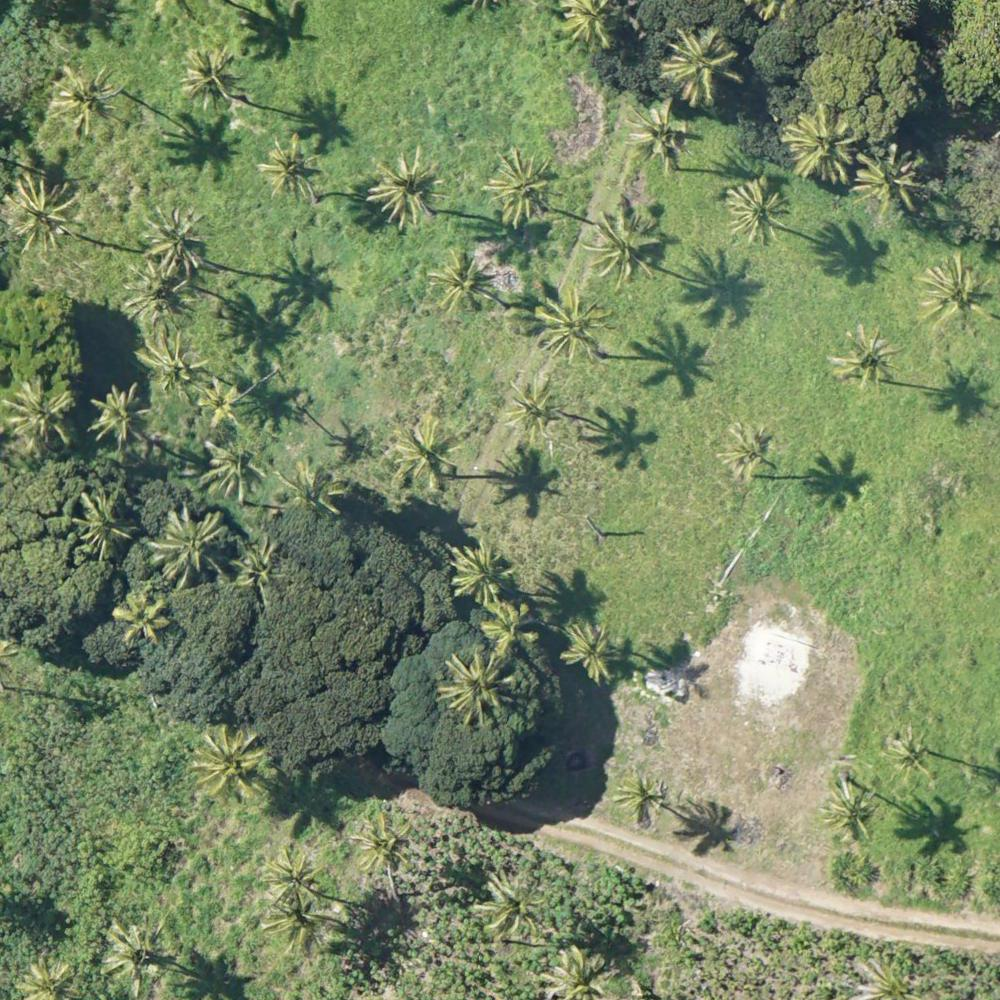Palm: (657, 26, 742, 106), (6, 169, 80, 259), (370, 147, 452, 228), (586, 208, 670, 284), (621, 97, 701, 173), (192, 724, 268, 804), (152, 505, 231, 581), (482, 148, 558, 227), (918, 258, 997, 334), (783, 108, 857, 185), (388, 417, 464, 491), (476, 866, 549, 942), (499, 375, 575, 447), (534, 291, 612, 361), (101, 913, 172, 989), (443, 536, 517, 607), (441, 647, 512, 719), (853, 148, 923, 221), (271, 456, 348, 521), (198, 435, 268, 504), (725, 178, 796, 246), (53, 64, 125, 131), (145, 201, 208, 277), (430, 247, 501, 313), (830, 329, 903, 393), (136, 326, 205, 393), (72, 486, 137, 557), (7, 378, 71, 450), (123, 260, 193, 324), (819, 772, 881, 841), (258, 136, 322, 202), (354, 812, 419, 875), (546, 945, 622, 998), (182, 42, 246, 104), (266, 849, 329, 910), (563, 622, 624, 683), (262, 900, 328, 956), (720, 419, 781, 475), (485, 601, 541, 658), (91, 388, 147, 444), (113, 588, 172, 641), (616, 771, 670, 825), (197, 379, 252, 430), (886, 729, 933, 783)
